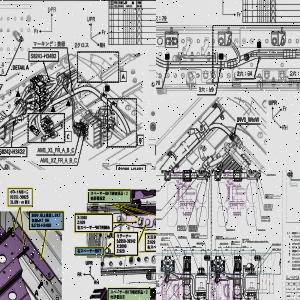PartNumber: (30, 52, 57, 59), (0, 148, 25, 155), (31, 222, 51, 228), (116, 238, 136, 244), (118, 166, 143, 170), (10, 194, 28, 199), (196, 242, 204, 244), (256, 229, 264, 231), (292, 264, 300, 266), (188, 228, 196, 230), (188, 226, 196, 228), (295, 260, 300, 263), (161, 238, 168, 240), (160, 243, 167, 245), (178, 236, 185, 238), (191, 233, 198, 235), (215, 236, 222, 238), (220, 242, 227, 244), (231, 241, 238, 243), (242, 238, 249, 240), (264, 207, 271, 209), (264, 205, 271, 207), (177, 226, 184, 228), (227, 229, 233, 231), (262, 216, 268, 218), (177, 227, 183, 229), (272, 249, 280, 250), (156, 218, 160, 220), (188, 225, 196, 226), (272, 244, 279, 245), (264, 204, 271, 205), (265, 194, 272, 195), (267, 174, 274, 175), (262, 218, 268, 219), (156, 209, 159, 211)
